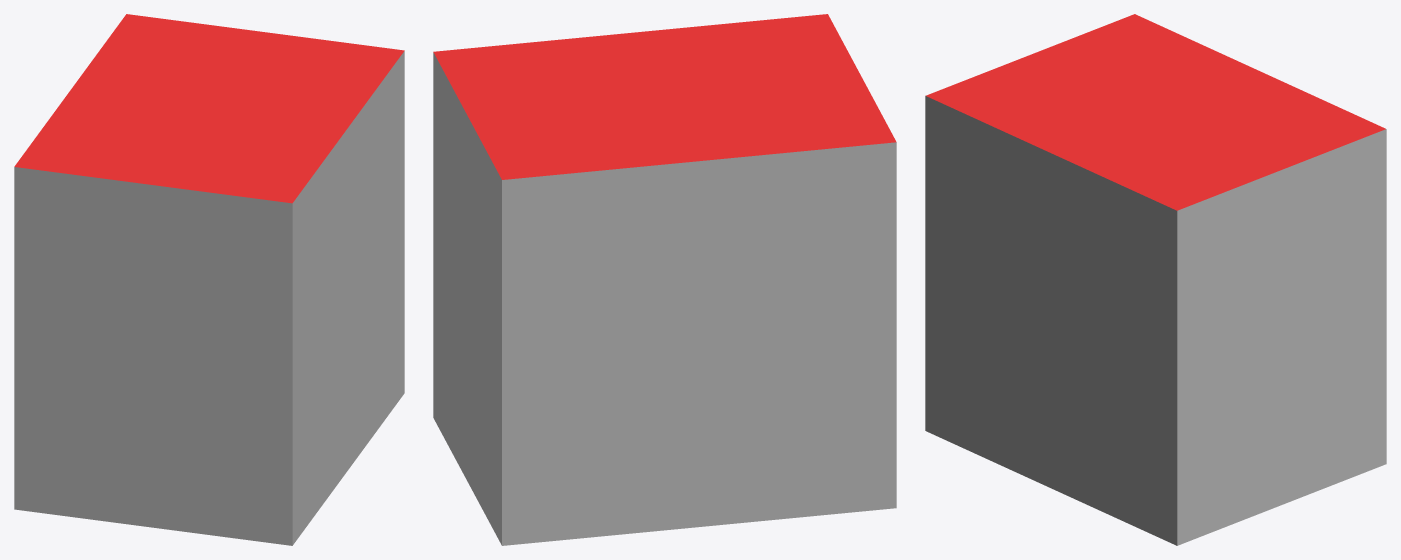
The picture shows the model from 3 angles, left to right: view 1: azimuth 30°, elevation 25°; view 2: azimuth 150°, elevation 25°; view 3: azimuth 270°, elevation 25°; orthographic projection. The views are drawn at different scales.
Size of the model in its own units: 16.33 by 16.17 by 12.97.
